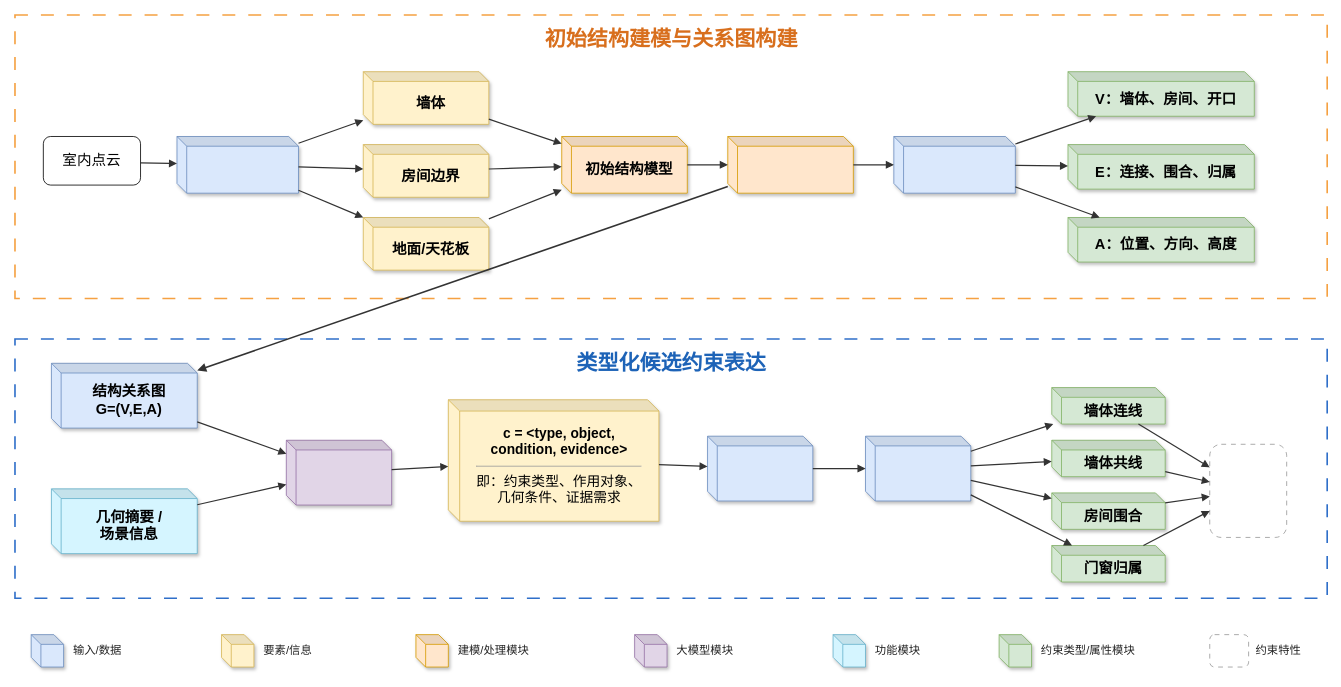
The diagram is 1341 pixels wide and 687 high, and some of its shapes have lost their labels. Here are the shapes that lost their labels. From the top down, the centre of each, then its label:
point (238, 165): 结构要素 提取
point (791, 165): 关系图构建
point (955, 165): G = (V, E, A)
point (339, 473): 大模型 / LLM
point (760, 469): 候选约束 表达
point (918, 469): 约束类型 限定
point (1248, 490): 对象明确 可验证 可解释
